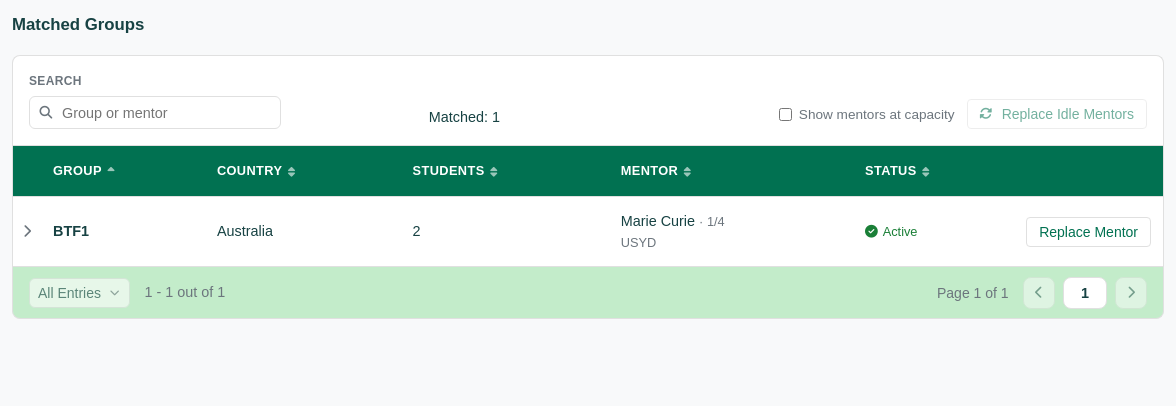
Scenario: MatchedGroupsPanel › does not offer the mentor already on the group
Click the button "Replace Mentor": (1089, 232) x1=1026 y1=217 x2=1151 y2=247
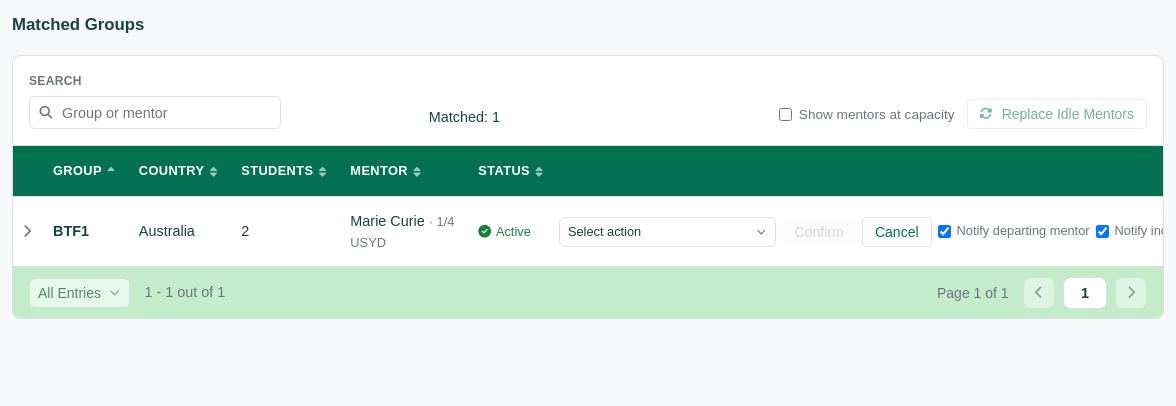
Press the mouse on the element with class "matched-groups__replace-select": (668, 232) x1=559 y1=217 x2=776 y2=247
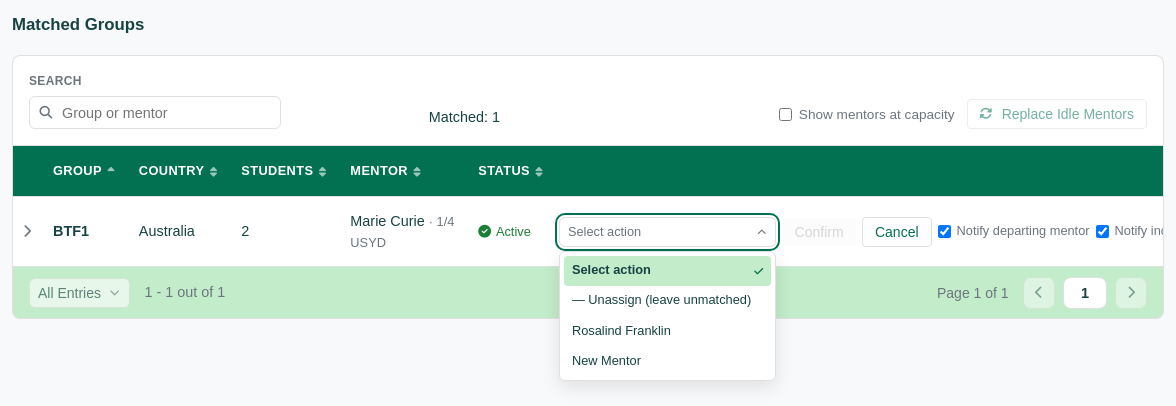
Check: the text "Marie Curie" is not shown
Check: the text "Rosalind Franklin" is shown, box x1=572 y1=320 x2=671 y2=341
